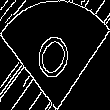O_SW: (31, 21, 79, 89)
